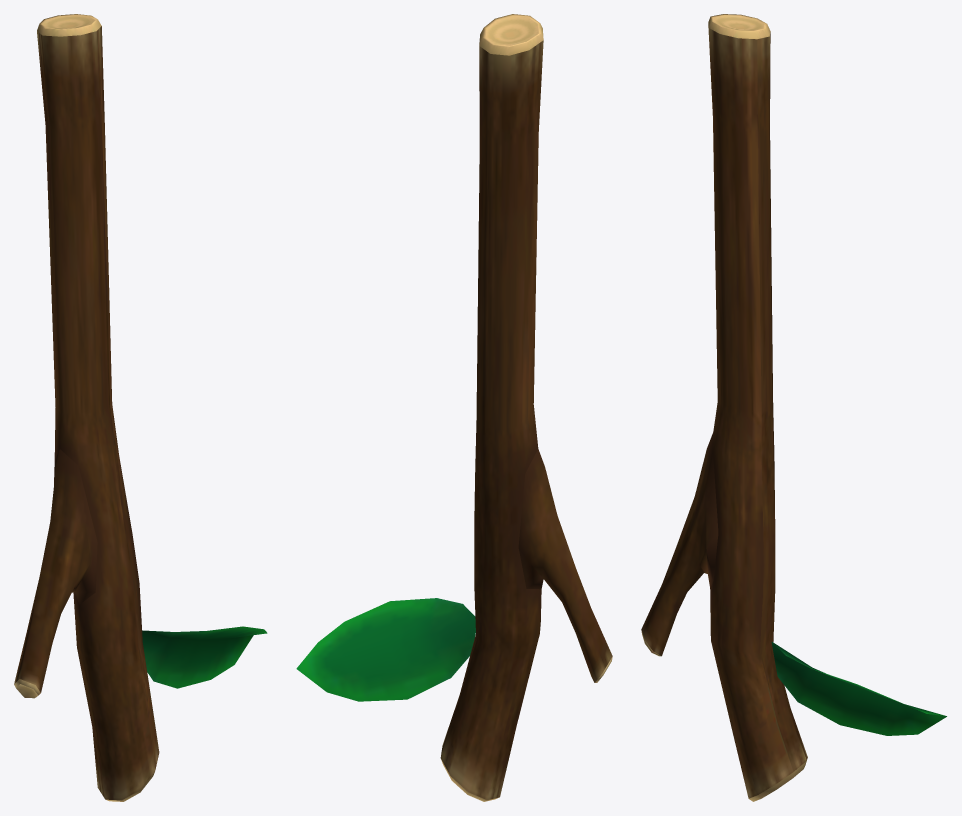
Rendered from ToolBranch.glb.
The picture shows the model from 3 angles, left to right: view 1: azimuth 30°, elevation 25°; view 2: azimuth 150°, elevation 25°; view 3: azimuth 330°, elevation 25°; orthographic projection. The views are drawn at different scales.
Parts seen in each view (by area): view 1: Branch__mTool; view 2: Branch__mTool; view 3: Branch__mTool.
Part boxes in pixels (left/top/right/bottom): Branch__mTool: left=14, top=14, right=267, bottom=801; Branch__mTool: left=296, top=14, right=612, bottom=801; Branch__mTool: left=641, top=14, right=946, bottom=801.
Size of the model in its own units: 1.62 by 4.41 by 0.5225.
Materials: 1 (1 with a texture image).
